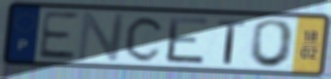C: (123, 14, 167, 64)
E: (165, 14, 212, 66), (35, 9, 81, 61)
N: (75, 11, 128, 63)
O: (247, 18, 298, 70)
T: (216, 18, 247, 66)
